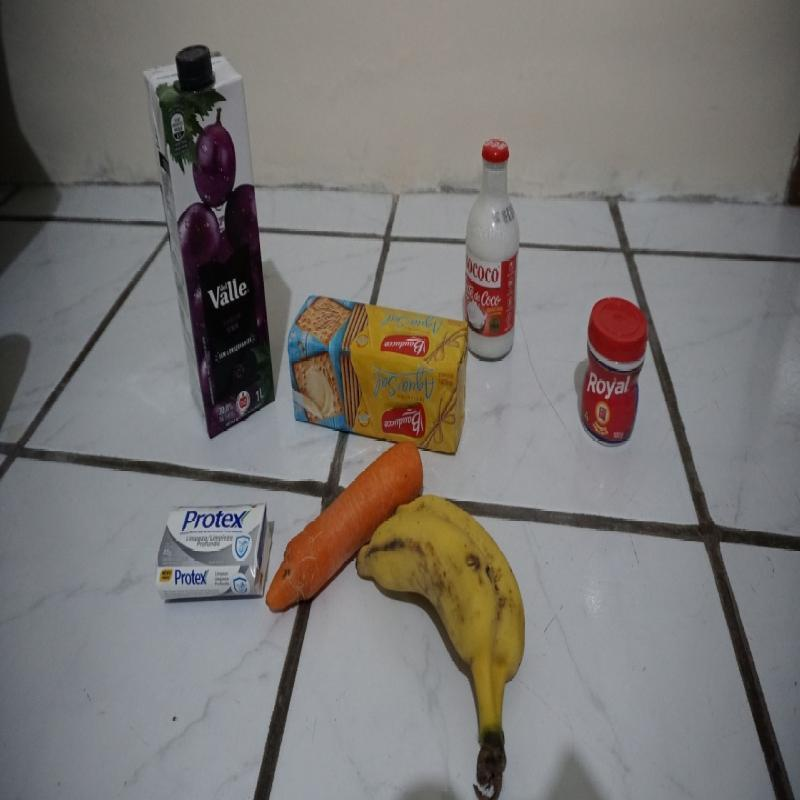Banana: (356, 493, 526, 794)
Carrot: (267, 440, 424, 612)
Coconut Milk: (464, 138, 521, 362)
Cracker: (289, 294, 470, 455)
Soap: (158, 506, 270, 602)
Yeast: (581, 299, 648, 448)
